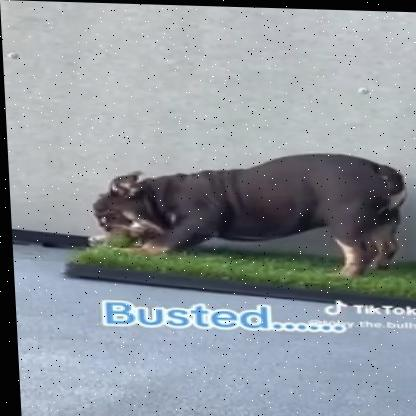dog: (72, 139, 408, 282)
